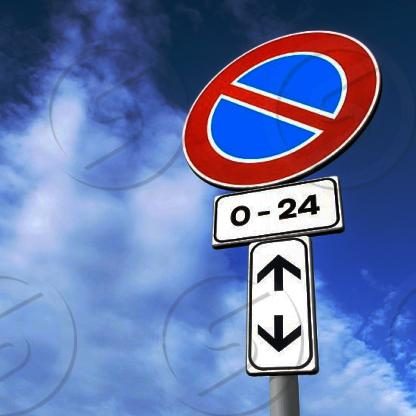No parking: (181, 26, 386, 184)
